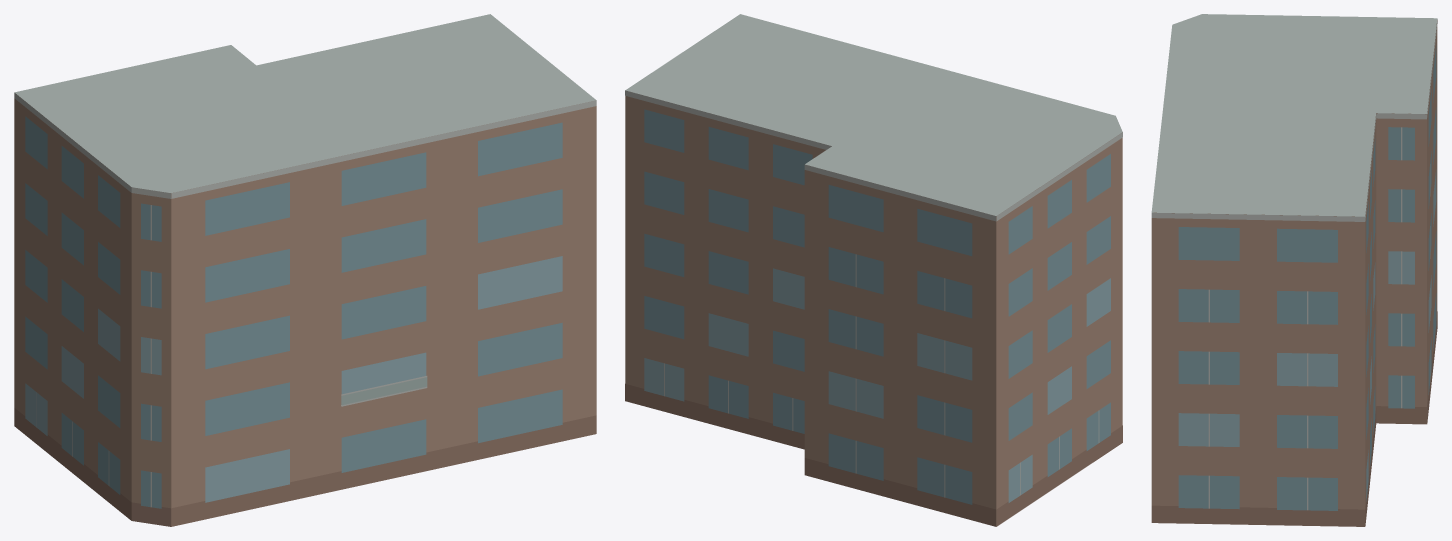
Rendered from survey-upis-32963093.glb.
3 renders of one model, left to right at view 1: azimuth 30°, elevation 25°; view 2: azimuth 150°, elevation 25°; view 3: azimuth 270°, elevation 25°, orthographic. The views are drawn at different scales.
Visible parts, largest first — view 1: survey-upis-32963093.tmp; view 2: survey-upis-32963093.tmp; view 3: survey-upis-32963093.tmp.
Boxes of the visible parts, x1,y1,x2,y2 form: survey-upis-32963093.tmp: (14, 14, 596, 526); survey-upis-32963093.tmp: (625, 14, 1122, 526); survey-upis-32963093.tmp: (1151, 14, 1437, 526).
Bounding box in the file's own units: 19.76 × 14.1 × 11.78.
